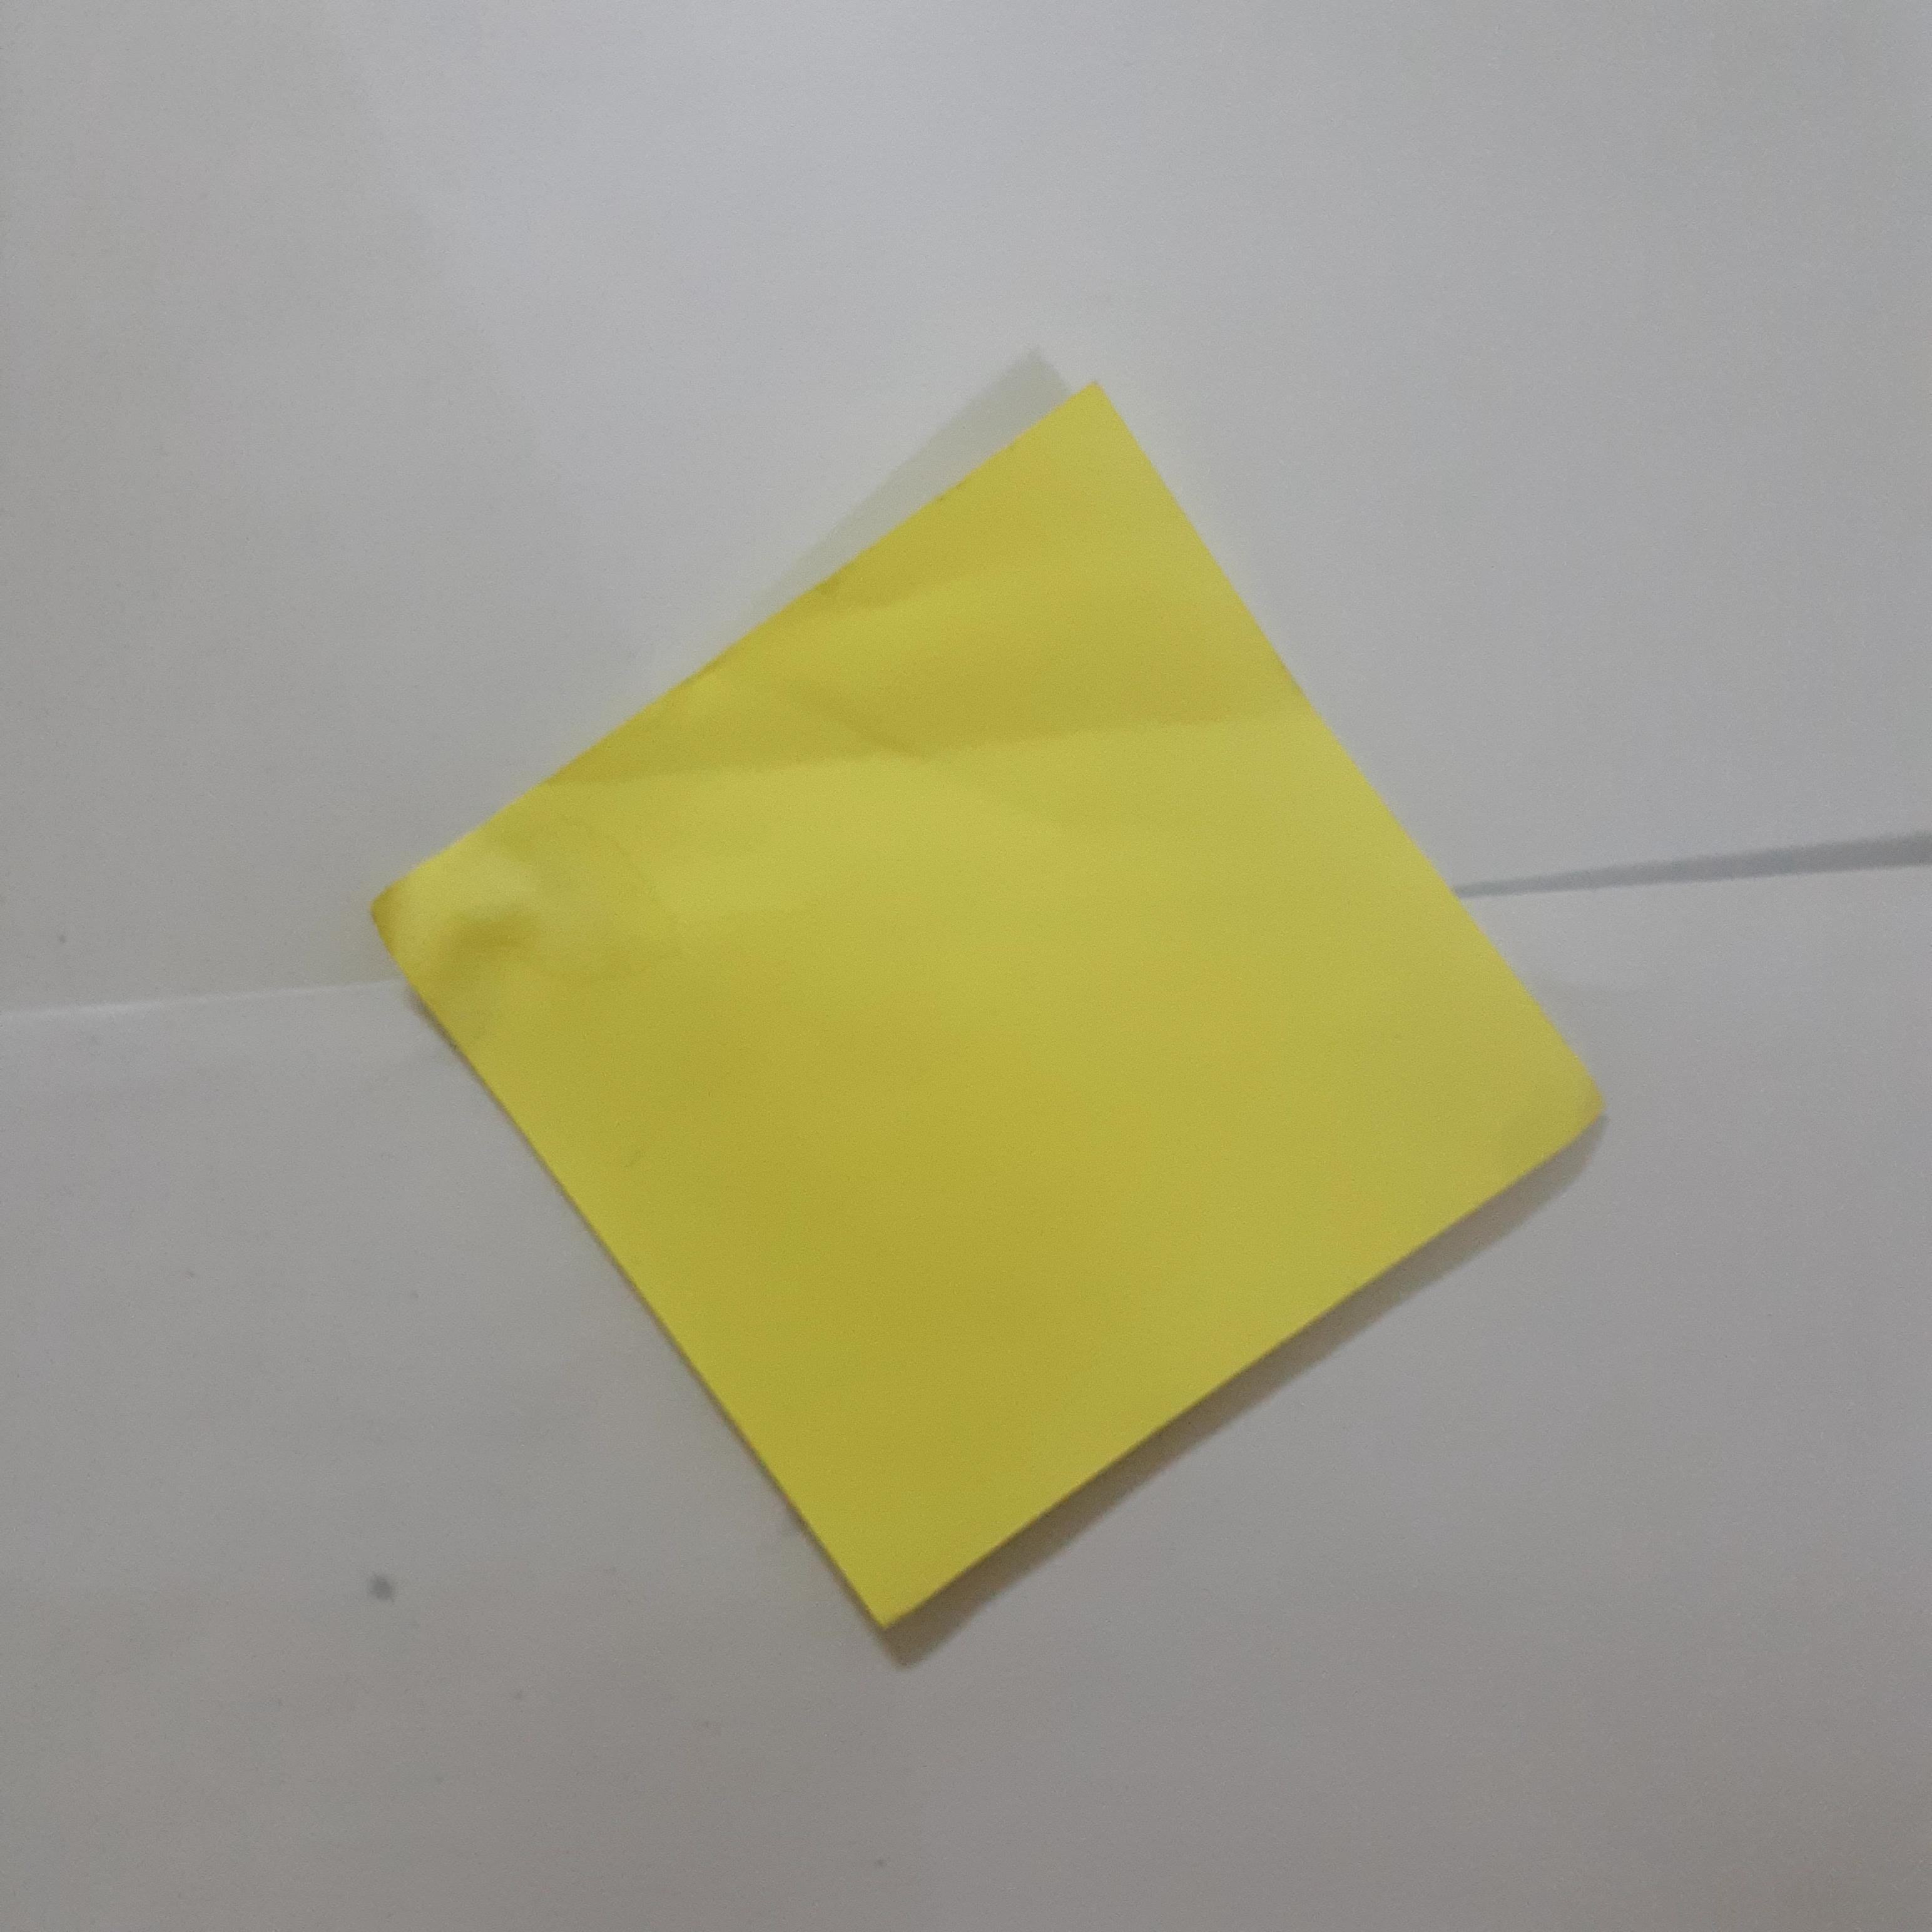Paper: (357, 350, 1642, 1684)
